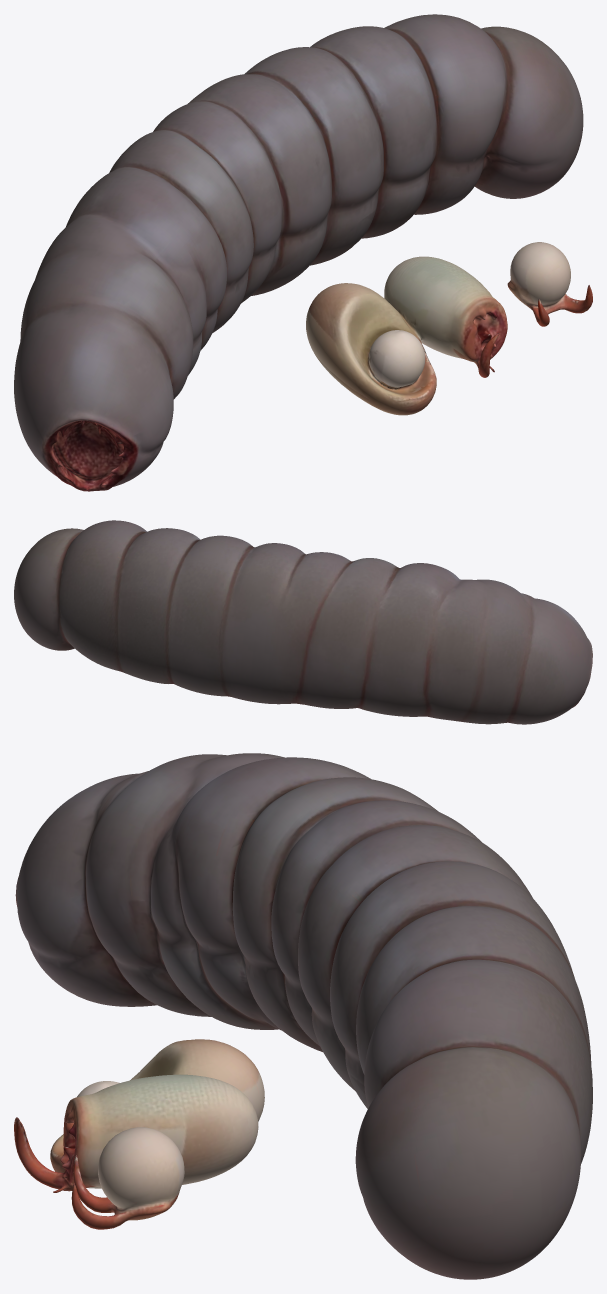
File: vet_v2_parasite_tapeworm.glb
3 renders of one model, top to bottom at view 1: azimuth 30°, elevation 25°; view 2: azimuth 150°, elevation 25°; view 3: azimuth 270°, elevation 25°, orthographic. The views are drawn at different scales.
Parts seen in each view (by area): view 1: model; view 2: model; view 3: model.
Part boxes in pixels (bbox=[...]): model: bbox=[14, 14, 592, 491]; model: bbox=[14, 520, 592, 724]; model: bbox=[14, 753, 592, 1279].
Size of the model in its own units: 1.9 by 0.6914 by 1.06.
Materials: 1 (1 with a texture image).
